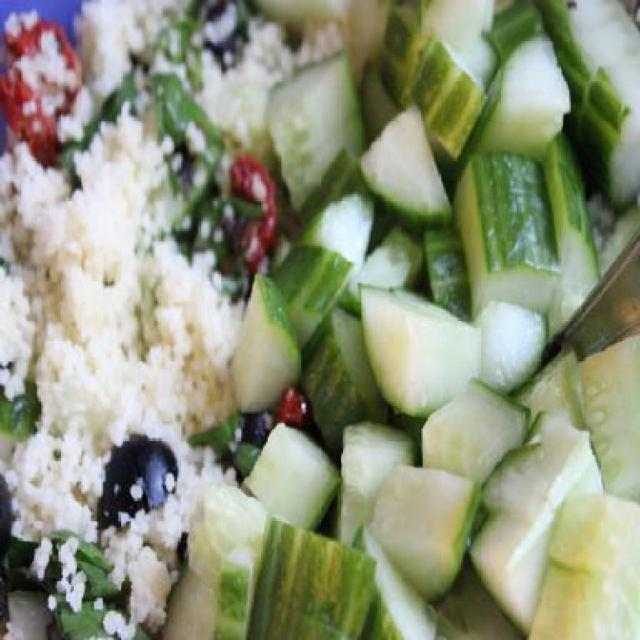Zucchini: (138, 0, 638, 638), (150, 0, 638, 638), (368, 472, 484, 606), (226, 267, 306, 415)
